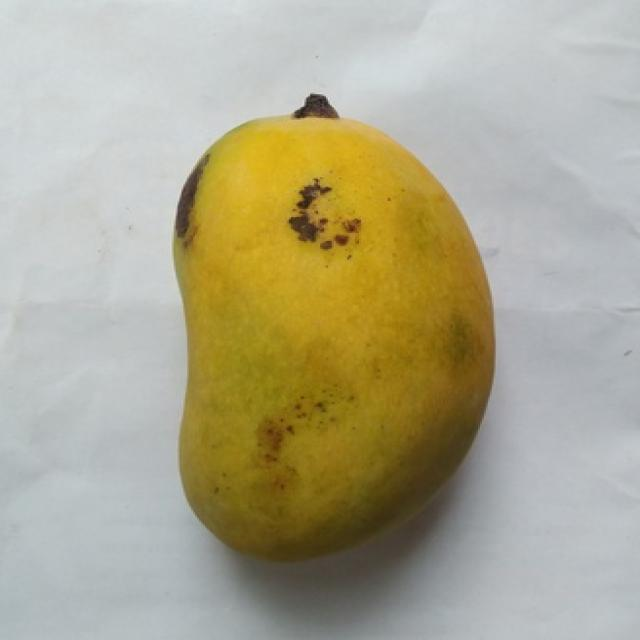Mango: (174, 97, 494, 559)
